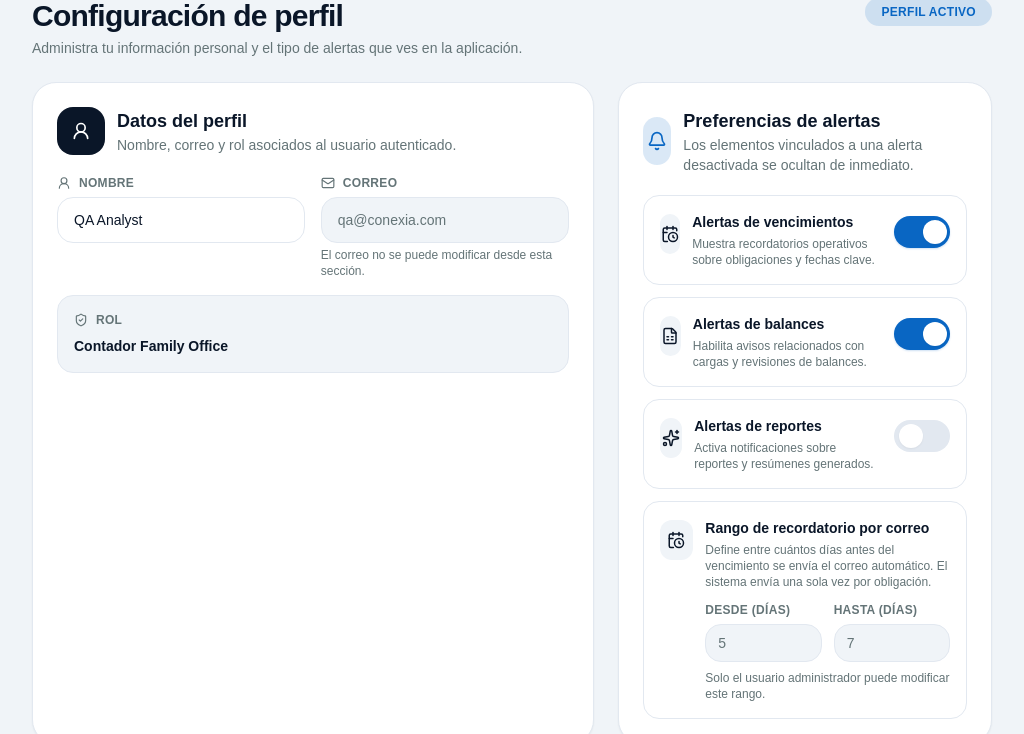
SettingsPage › guarda los cambios del perfil y muestra confirmacion
Replace the text in the field showing "QA Analyst" with "QA Lead" at [181, 220], box [57,197,305,243]
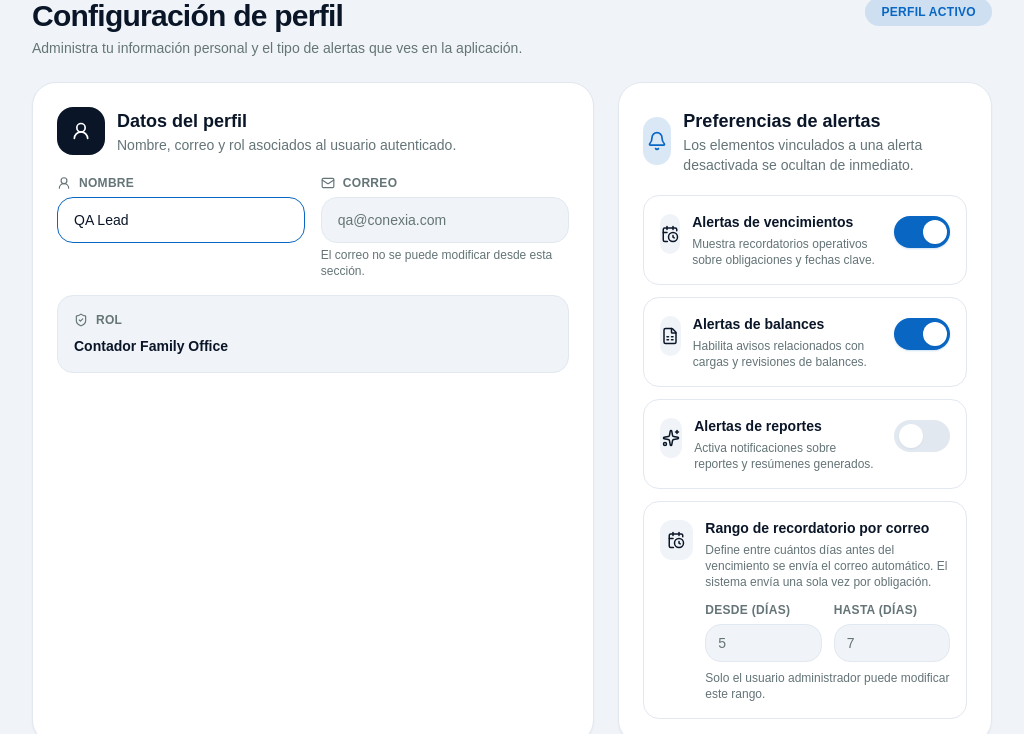
Click the switch named "alertas de reportes" at [922, 436], box [894,420,950,452]
(page scrolled)
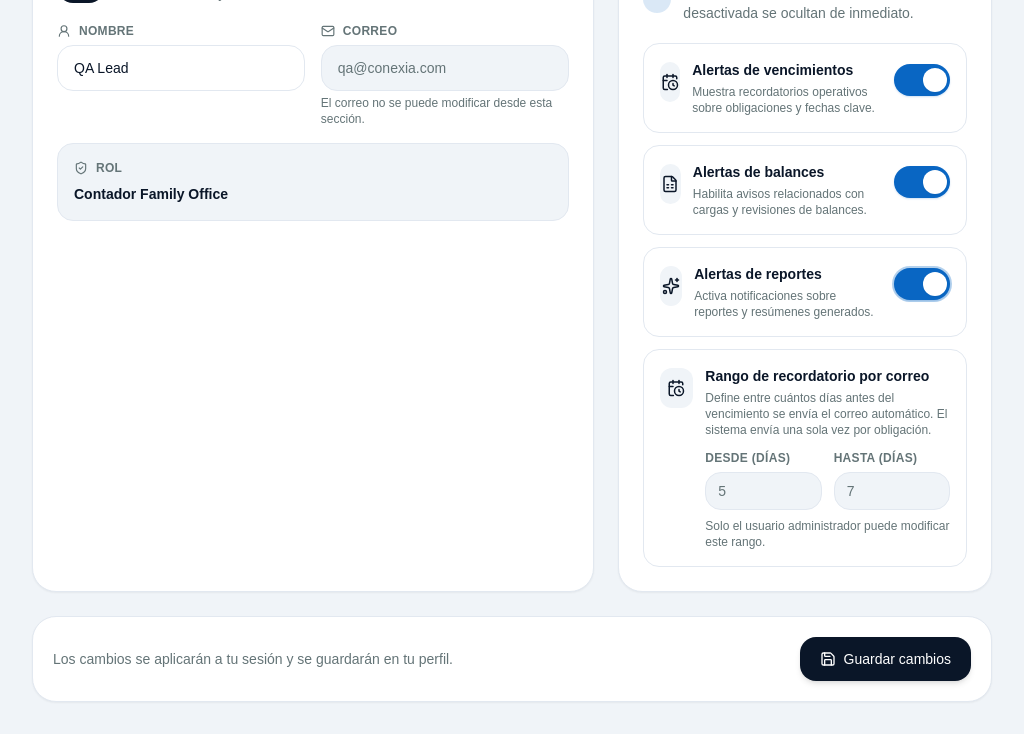
Click the button "Guardar cambios" at [885, 659], box [800,637,971,681]
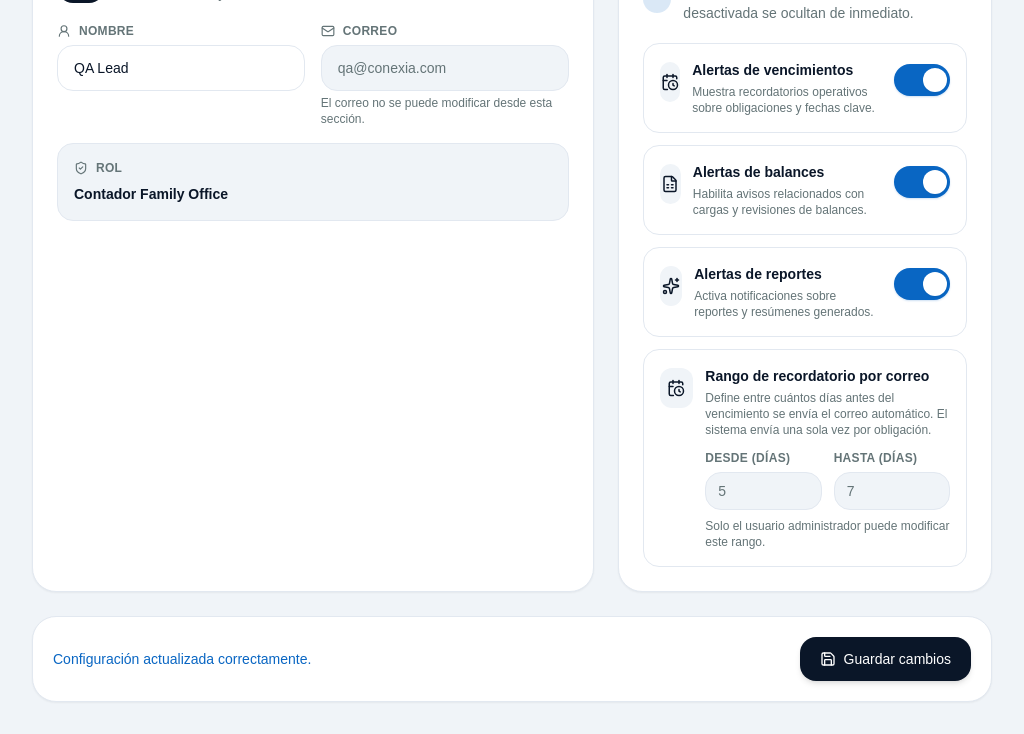
Expected: the text "Configuración actualizada correctamente." is shown, [53,649,311,669]
